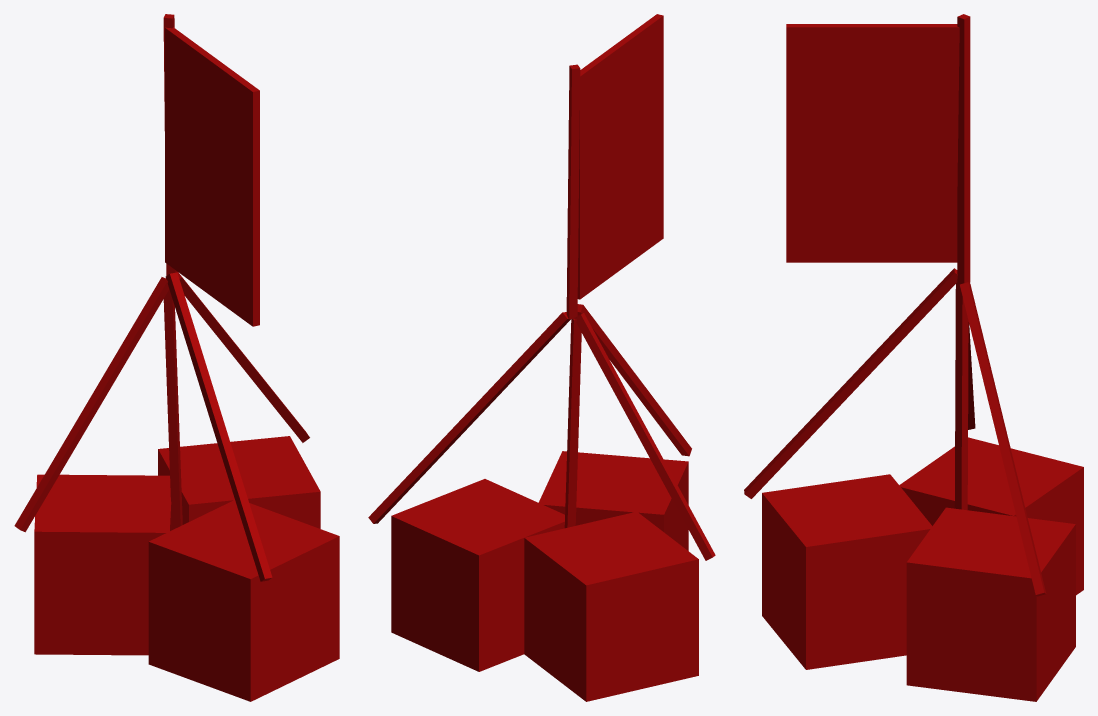
The model's file is SM_Prop_PirateFlag_01_Collision.glb.
3 views of the same model, side by side, from view 1: azimuth 30°, elevation 25°; view 2: azimuth 150°, elevation 25°; view 3: azimuth 270°, elevation 25° (orthographic). The views are drawn at different scales.
Visible parts, largest first — view 1: SM_Prop_PirateFlag_01_Collision; view 2: SM_Prop_PirateFlag_01_Collision; view 3: SM_Prop_PirateFlag_01_Collision.
Part boxes in pixels (x1,y1,x2,y2): SM_Prop_PirateFlag_01_Collision: [14, 14, 339, 701]; SM_Prop_PirateFlag_01_Collision: [368, 14, 715, 701]; SM_Prop_PirateFlag_01_Collision: [744, 14, 1083, 701].
Bounding box in the file's own units: 2.99 × 5.3 × 2.68.
